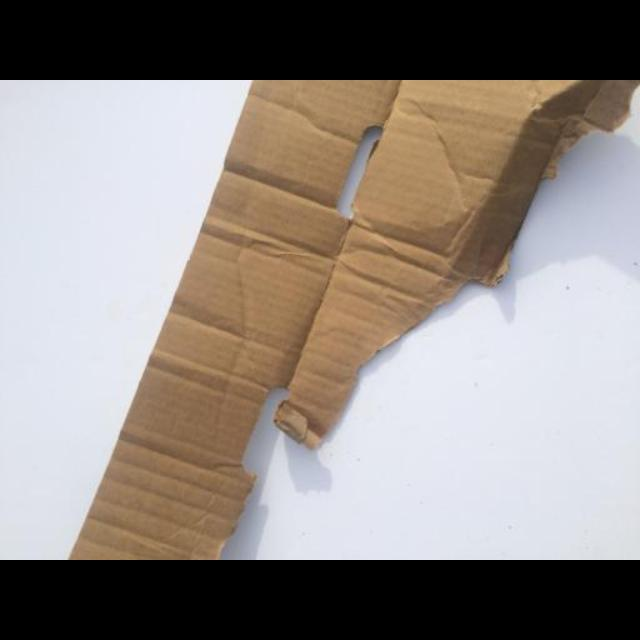papelão: (69, 80, 632, 558)
